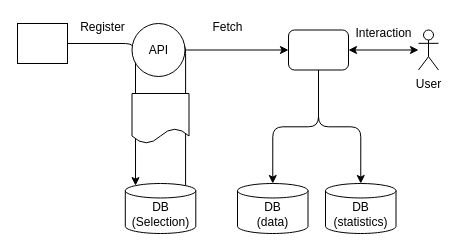
Some shapes in this 458 by 251 pixel diagram are drawn without their labels. The shapes that lost their labels are listed below. From the top down, each one's centre as x and y in pixels, then its label:
(x=42, y=43): control panel
(x=318, y=49): chatbot
(x=160, y=118): Selection Flow
